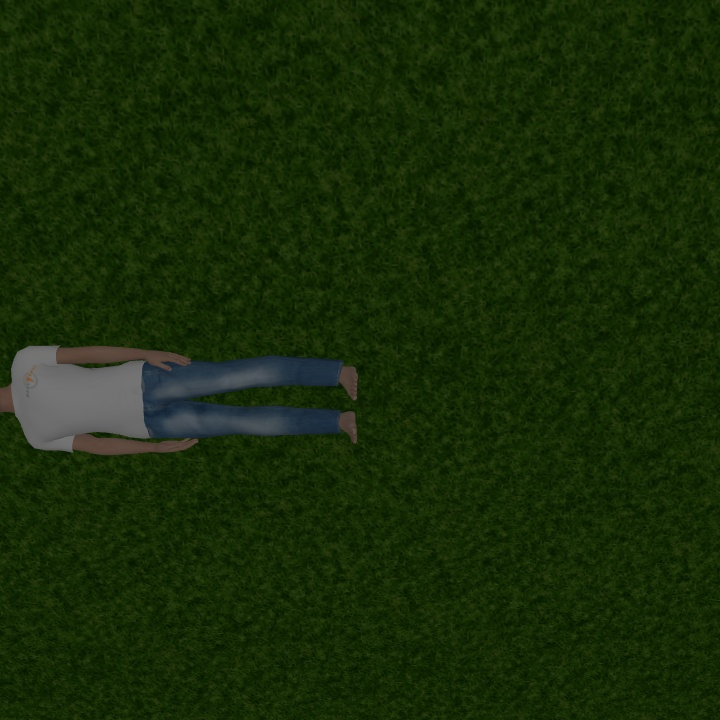victim: (1, 341, 362, 460)
